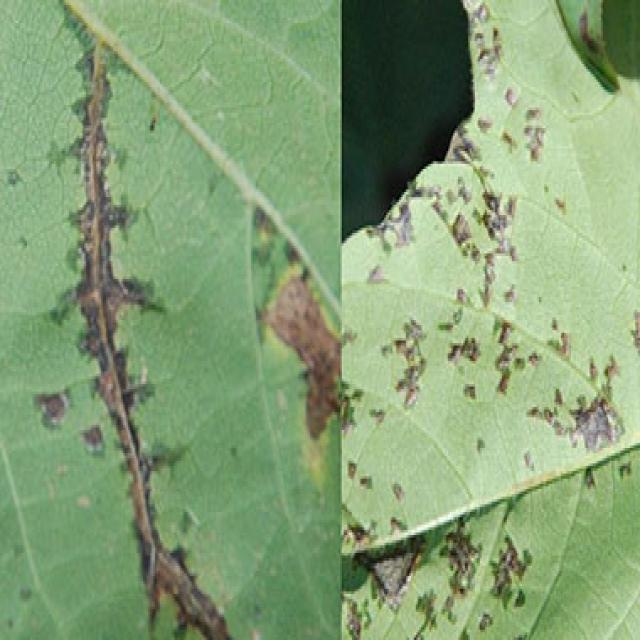Bacterial Blight: (64, 43, 225, 640)
